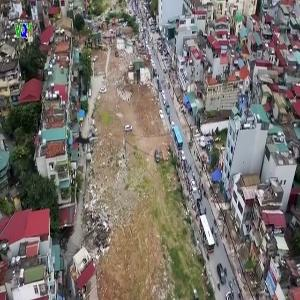drone: (53, 111, 118, 176)
